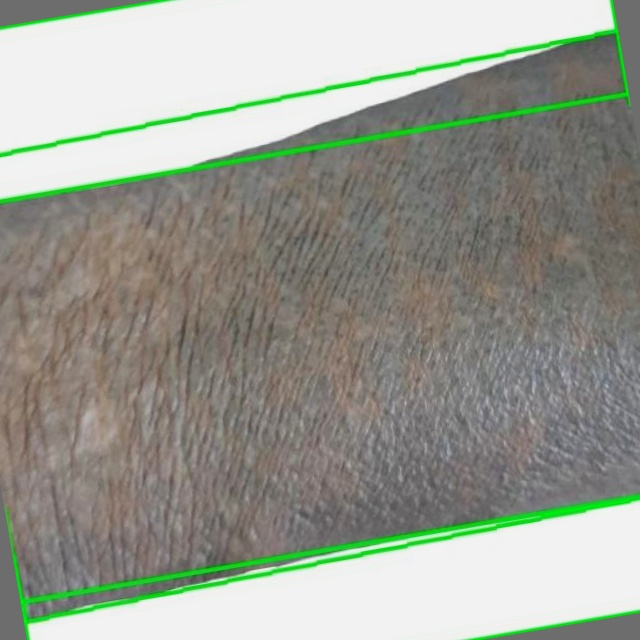Eczema: (0, 31, 639, 622), (0, 0, 628, 202), (21, 496, 639, 639)
